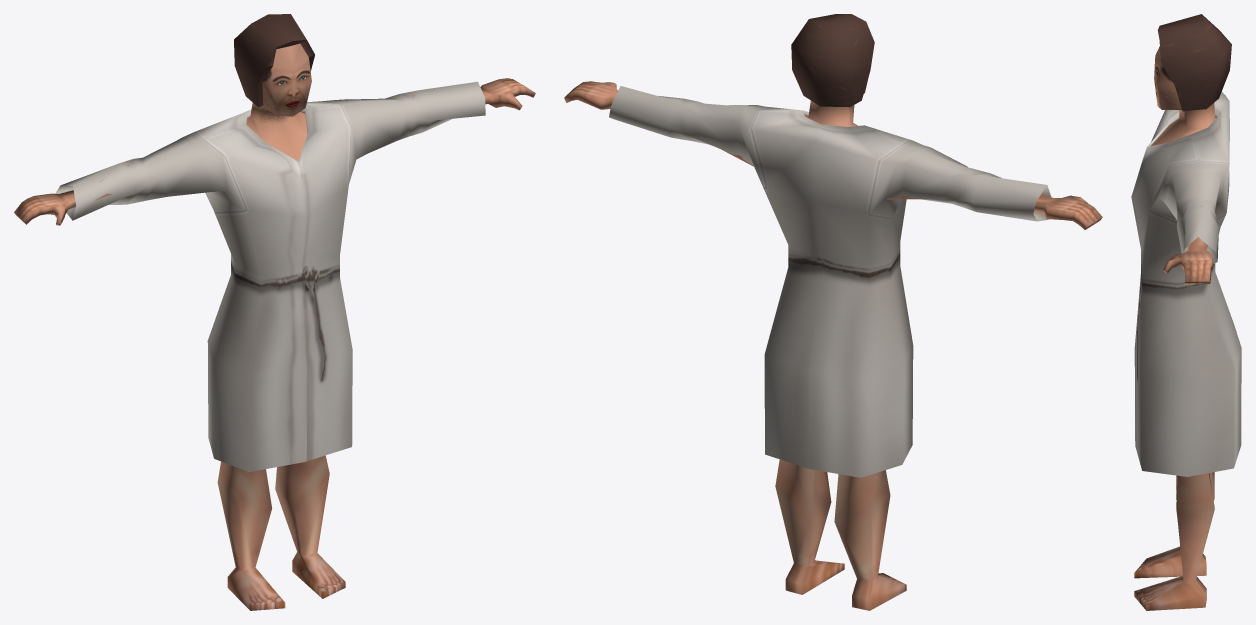
The model's file is Figut_LP_01.obj.
3 renders of one model, left to right at view 1: azimuth 30°, elevation 25°; view 2: azimuth 150°, elevation 25°; view 3: azimuth 270°, elevation 25°, orthographic. The views are drawn at different scales.
Visible parts, largest first — view 1: polySurface9; view 2: polySurface9; view 3: polySurface9.
Part boxes in pixels (x1=…): polySurface9: x1=14, y1=14, x2=535, y2=610; polySurface9: x1=564, y1=14, x2=1102, y2=610; polySurface9: x1=1131, y1=14, x2=1241, y2=610.
Size of the model in its own units: 26.61 by 27.87 by 4.92.
2 materials, 2 textured.
